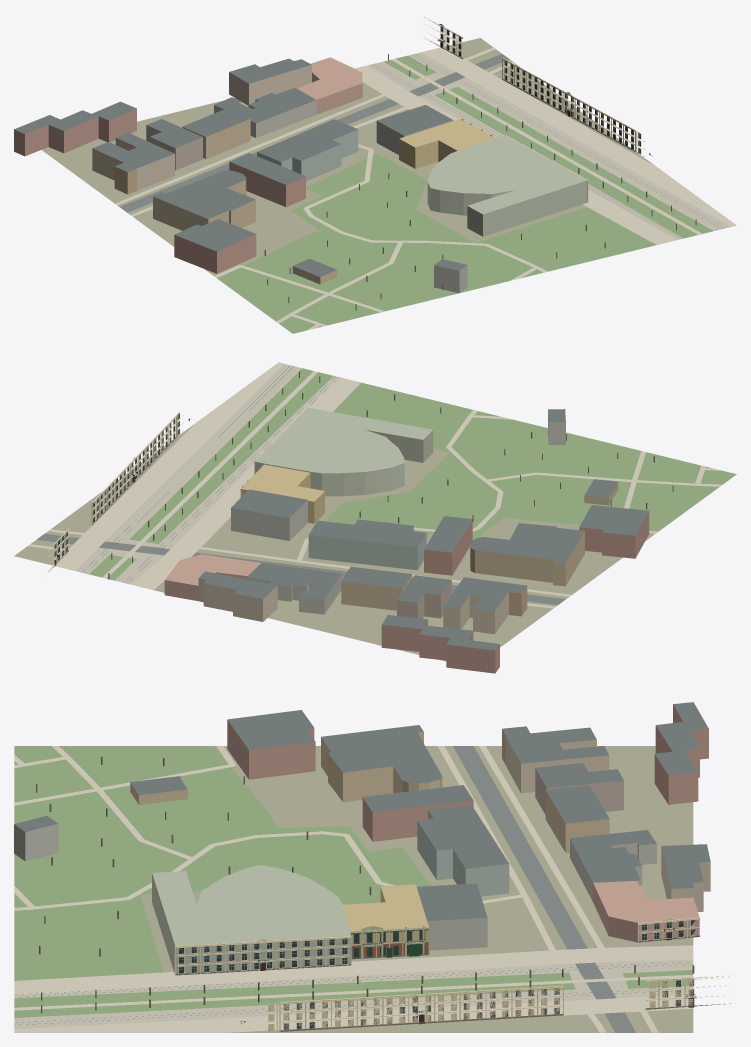
File: sector--1_-2.glb
3 views of the same model, one above another, from view 1: azimuth 30°, elevation 25°; view 2: azimuth 150°, elevation 25°; view 3: azimuth 270°, elevation 25° (orthographic). The views are drawn at different scales.
Visible parts, largest first — view 1: -1:-2-park, -1:-2-facade, -1:-2-roof, -1:-2-masonry, -1:-2-ground, -1:-2-paving, -1:-2-boulevard, -1:-2-stone, -1:-2-road, -1:-2-glass, -1:-2-trunk; view 2: -1:-2-park, -1:-2-facade, -1:-2-roof, -1:-2-ground, -1:-2-masonry, -1:-2-paving, -1:-2-boulevard, -1:-2-stone, -1:-2-road, -1:-2-glass, -1:-2-trunk; view 3: -1:-2-park, -1:-2-ground, -1:-2-roof, -1:-2-paving, -1:-2-facade, -1:-2-masonry, -1:-2-stone, -1:-2-boulevard, -1:-2-road, -1:-2-glass, -1:-2-trunk, -1:-2-rail.
Part boxes in pixels (x1,y1,x2,y2): -1:-2-park: (218,55,713,333); -1:-2-facade: (14,65,467,293); -1:-2-roof: (14,58,466,276); -1:-2-masonry: (297,57,587,236); -1:-2-ground: (42,38,654,278); -1:-2-paving: (115,47,736,330); -1:-2-boulevard: (368,52,731,240); -1:-2-stone: (330,16,652,201); -1:-2-road: (120,54,509,212); -1:-2-glass: (440,26,640,153); -1:-2-trunk: (264,54,696,310); -1:-2-park: (89,368,736,580); -1:-2-facade: (198,413,649,673); -1:-2-roof: (199,409,648,650); -1:-2-ground: (14,424,658,661); -1:-2-masonry: (164,407,433,601); -1:-2-paving: (27,362,721,608); -1:-2-boulevard: (56,364,337,587); -1:-2-stone: (42,407,306,580); -1:-2-road: (37,533,565,604); -1:-2-glass: (54,413,179,565); -1:-2-trunk: (108,371,673,579); -1:-2-park: (14,746,693,1017); -1:-2-ground: (140,746,693,1032); -1:-2-roof: (14,702,710,920); -1:-2-paving: (14,746,693,1032); -1:-2-facade: (14,704,710,950); -1:-2-masonry: (152,865,699,973); -1:-2-stone: (174,917,734,1031); -1:-2-boulevard: (14,959,693,1032); -1:-2-road: (453,746,635,1032); -1:-2-glass: (179,920,695,1030); -1:-2-trunk: (36,756,694,1013); -1:-2-rail: (14,962,692,1025).
Size of the model in its own units: 210 by 11 by 213.
